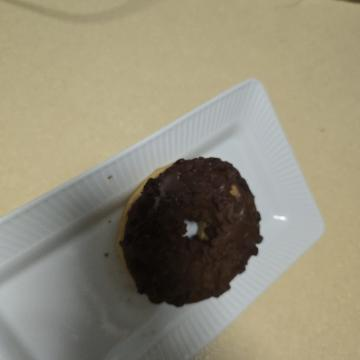doughnut: (139, 85, 321, 258)
